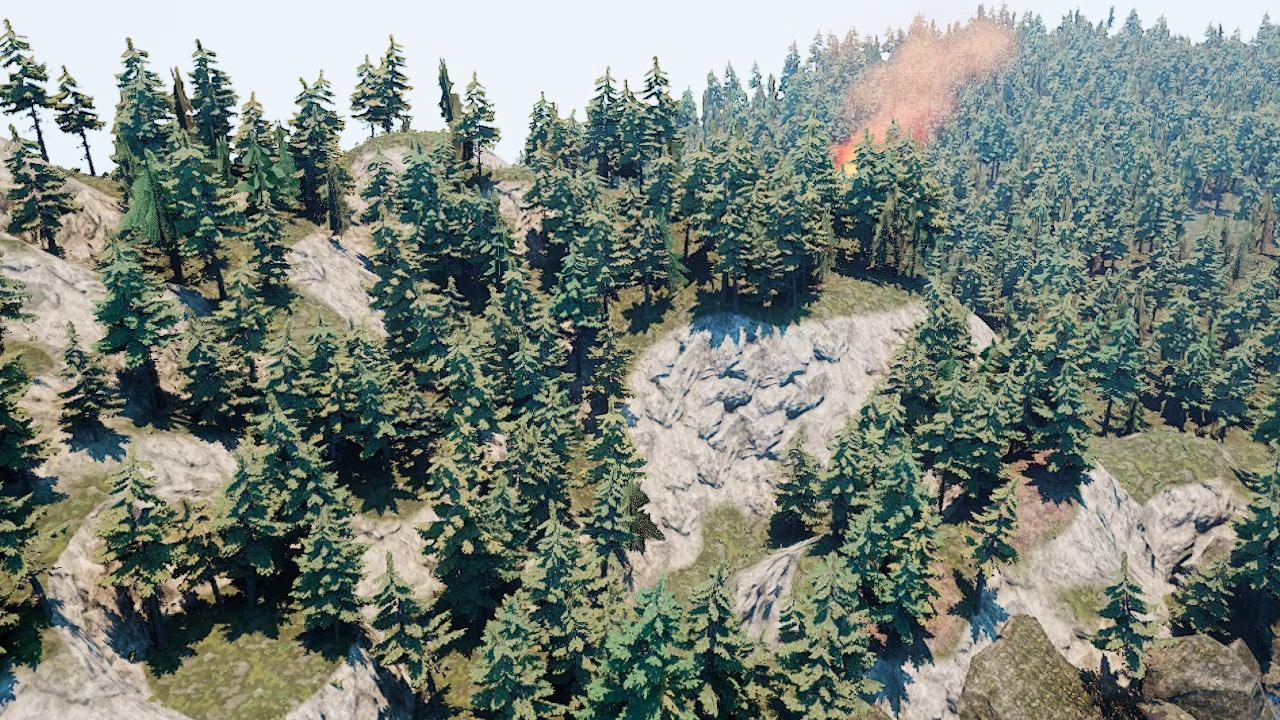fire: (833, 142, 861, 178)
smoke: (831, 3, 1015, 165)
